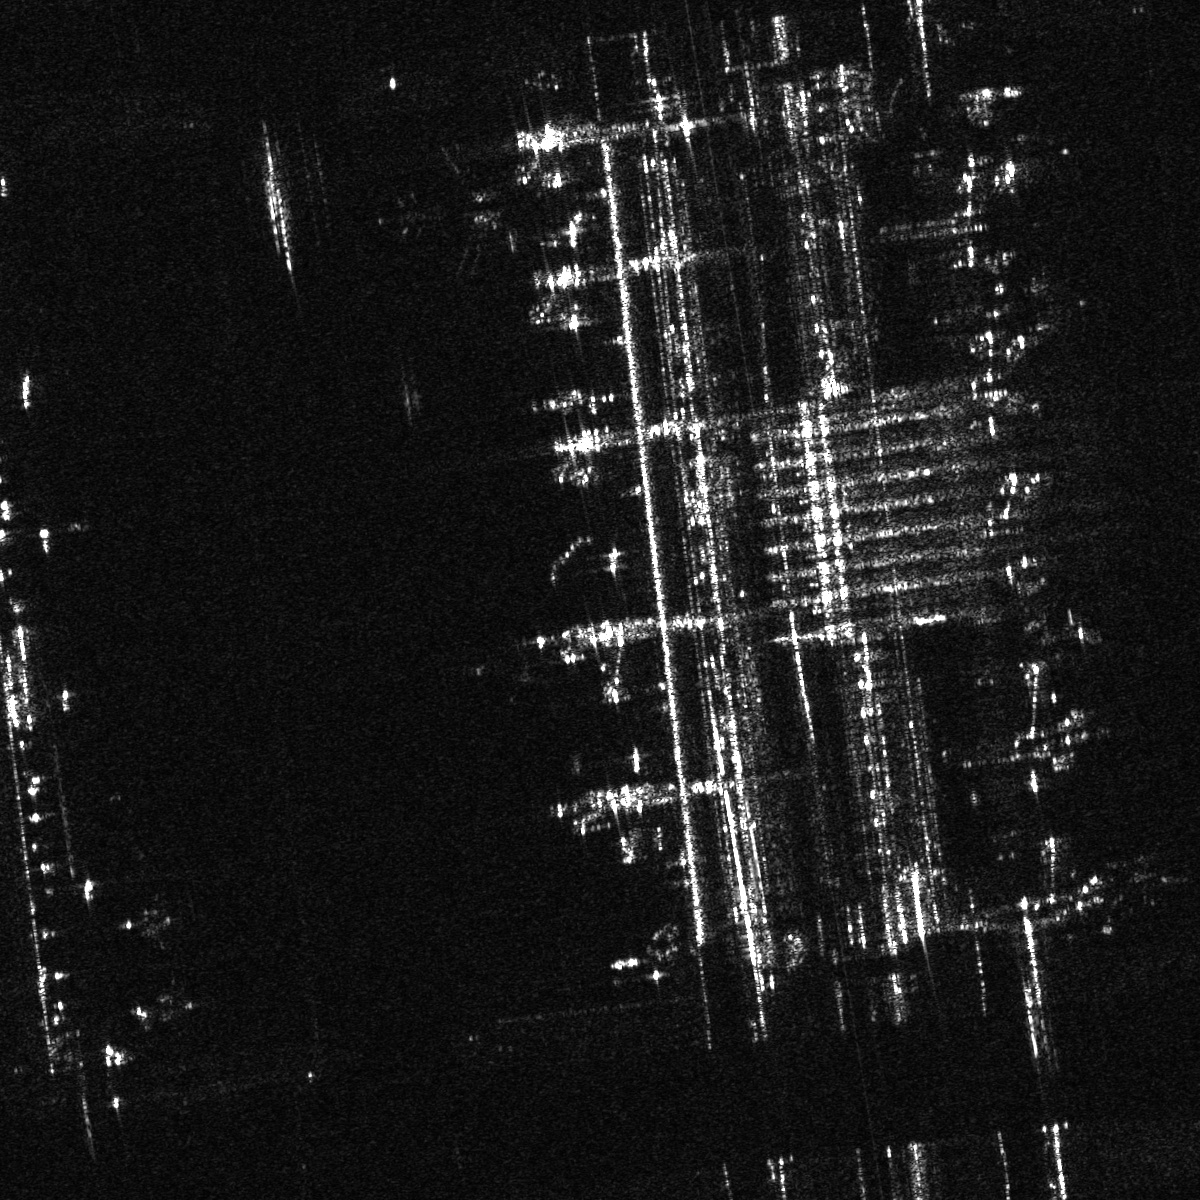Boeing737: (1102, 851, 1167, 908)
other: (375, 143, 516, 291)
